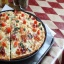pizza: (1, 10, 45, 58)
